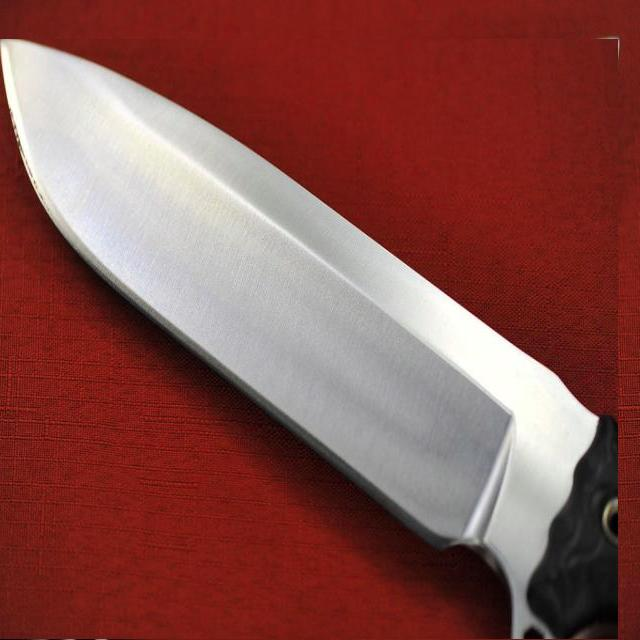Knife: (0, 39, 618, 639)
